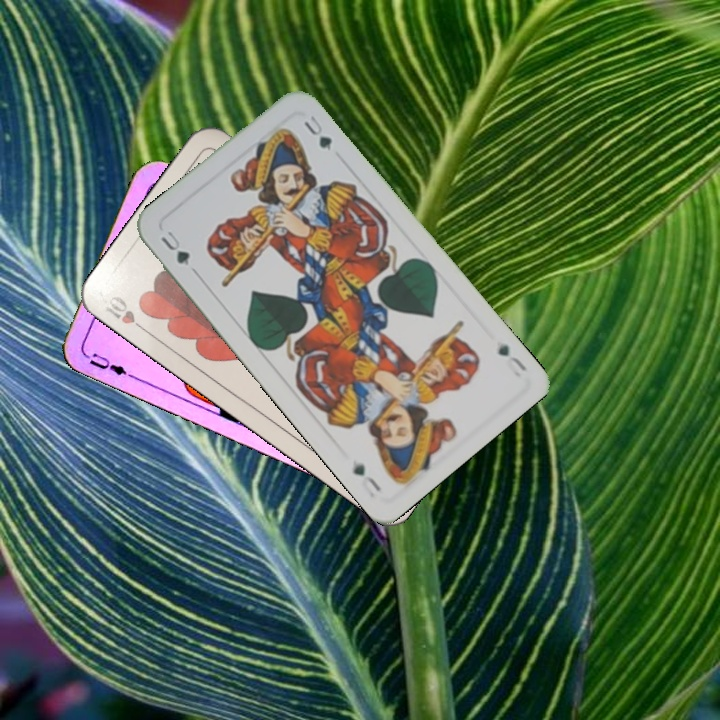EU: (80, 344, 135, 381)
GU: (156, 226, 193, 269), (493, 340, 530, 375)
H10: (101, 291, 152, 336)
